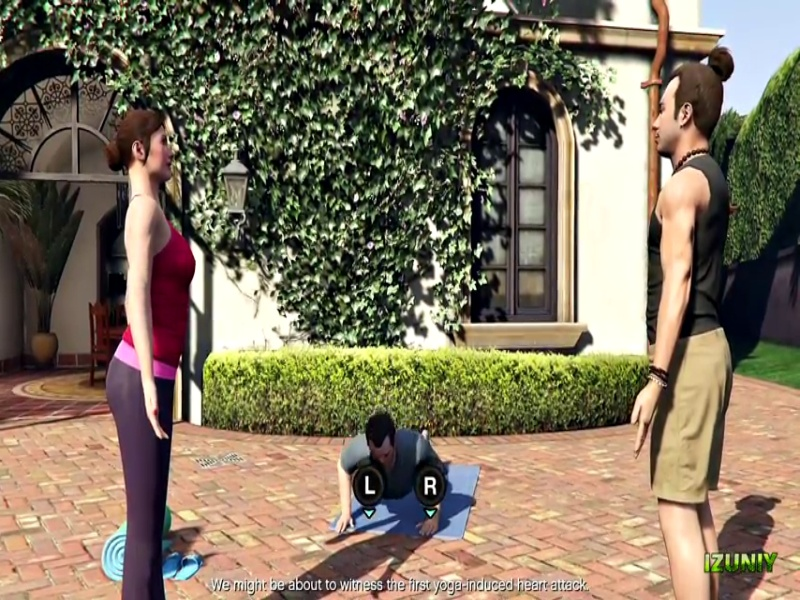human: (333, 408, 464, 542)
